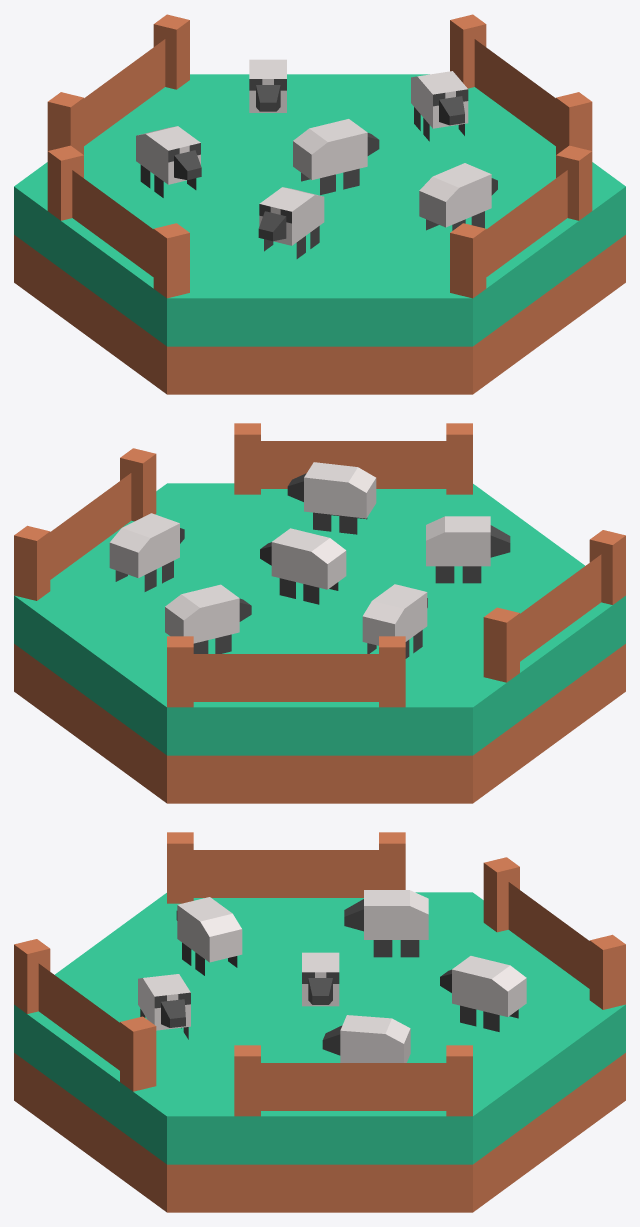
The model's file is building_sheep.dae.
The picture shows the model from 3 angles, top to bottom: view 1: azimuth 30°, elevation 25°; view 2: azimuth 150°, elevation 25°; view 3: azimuth 270°, elevation 25°; orthographic projection.
Visible parts, largest first — view 1: building_sheep, fence (×4), sheep (×6); view 2: building_sheep, fence (×4), sheep (×6); view 3: building_sheep, fence (×4), sheep (×6).
Part boxes in pixels (left/top/right/bottom): building_sheep: left=14, top=74, right=625, bottom=394; fence (×4): left=47, top=14, right=592, bottom=298; sheep (×6): left=136, top=59, right=497, bottom=258; building_sheep: left=14, top=483, right=625, bottom=803; fence (×4): left=14, top=423, right=625, bottom=707; sheep (×6): left=109, top=462, right=510, bottom=658; building_sheep: left=14, top=892, right=625, bottom=1212; fence (×4): left=14, top=832, right=625, bottom=1116; sheep (×6): left=138, top=890, right=526, bottom=1062.
Size of the model in its own units: 1 by 0.325 by 1.15.
